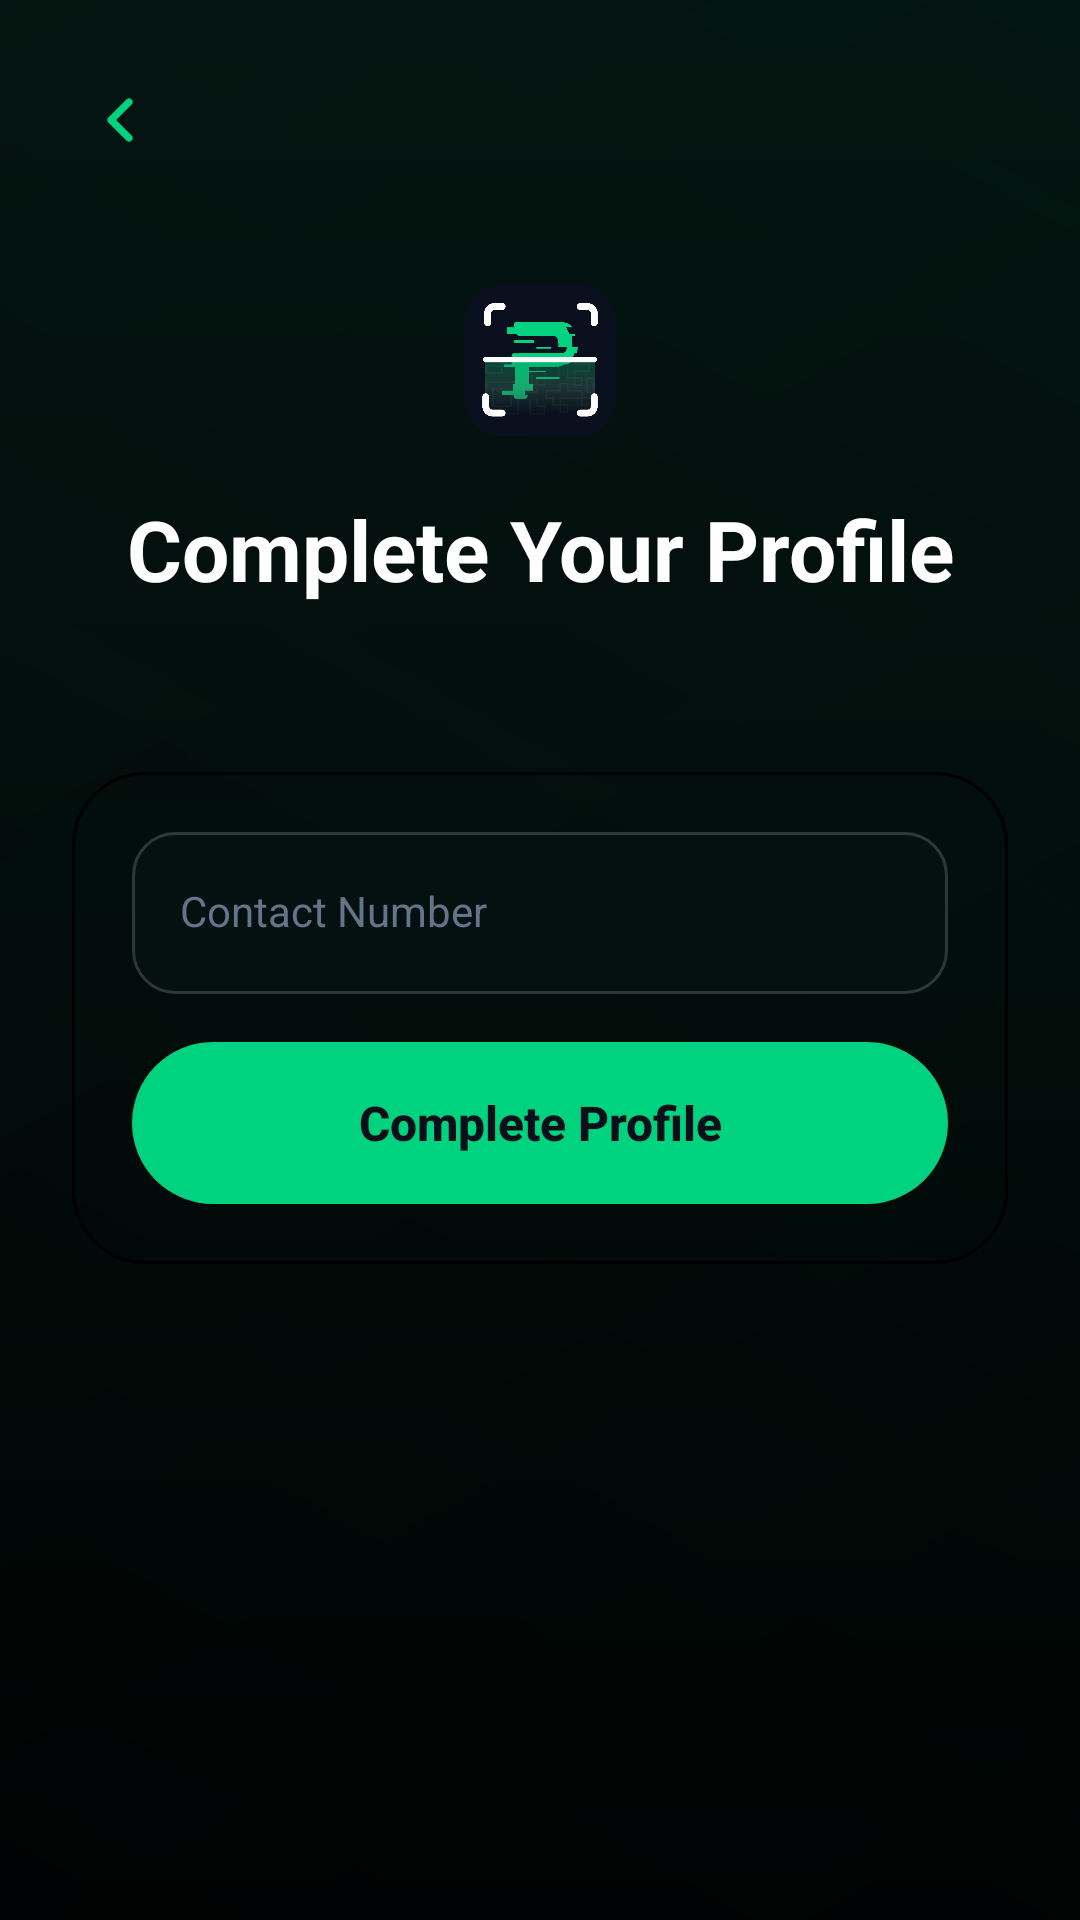

Where to tap for icons on this 1080 × 1920 app screen, as point (x, y):
arrow back: point (120, 120)
